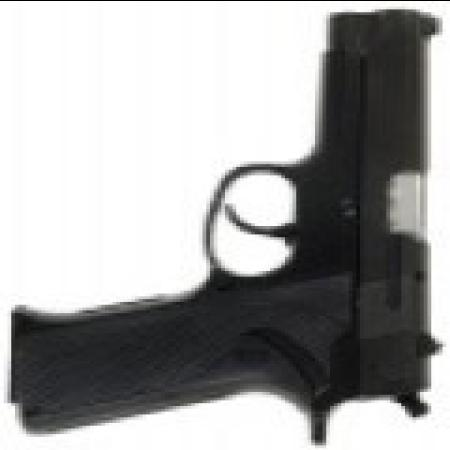Pistol: (19, 9, 442, 448)
